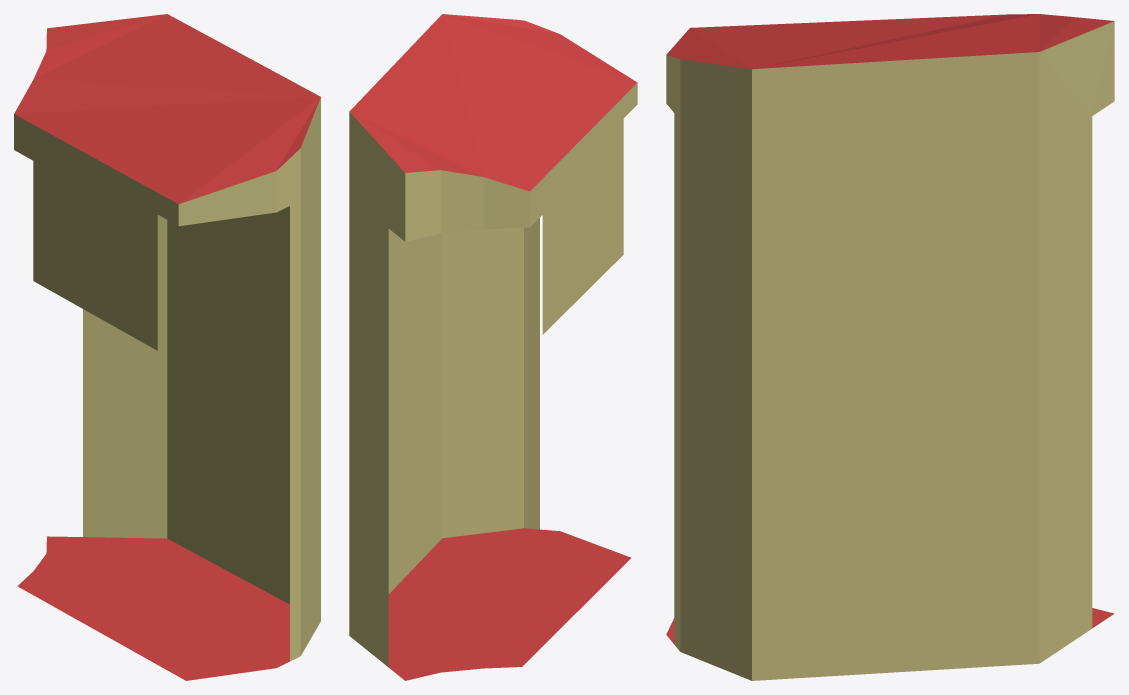
The picture shows the model from 3 angles, left to right: view 1: azimuth 30°, elevation 25°; view 2: azimuth 150°, elevation 25°; view 3: azimuth 270°, elevation 25°; orthographic projection. The views are drawn at different scales.
Bounding box in the file's own units: 4.17 × 7.05 × 10.6.
